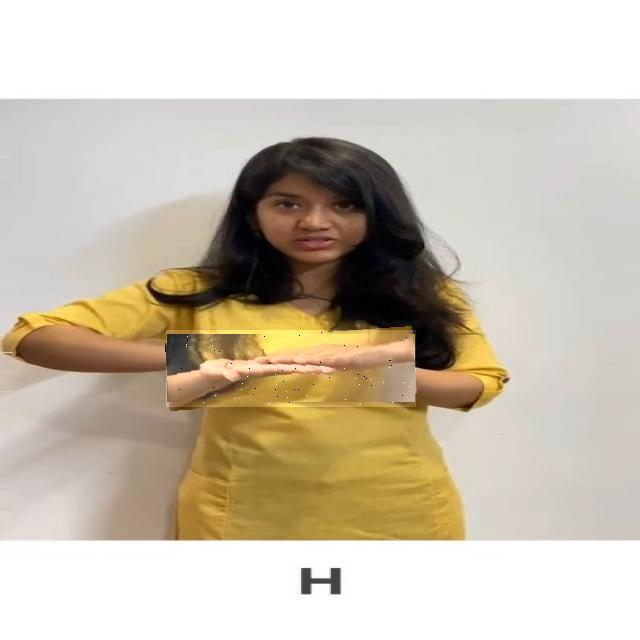H: (166, 330, 416, 407)
